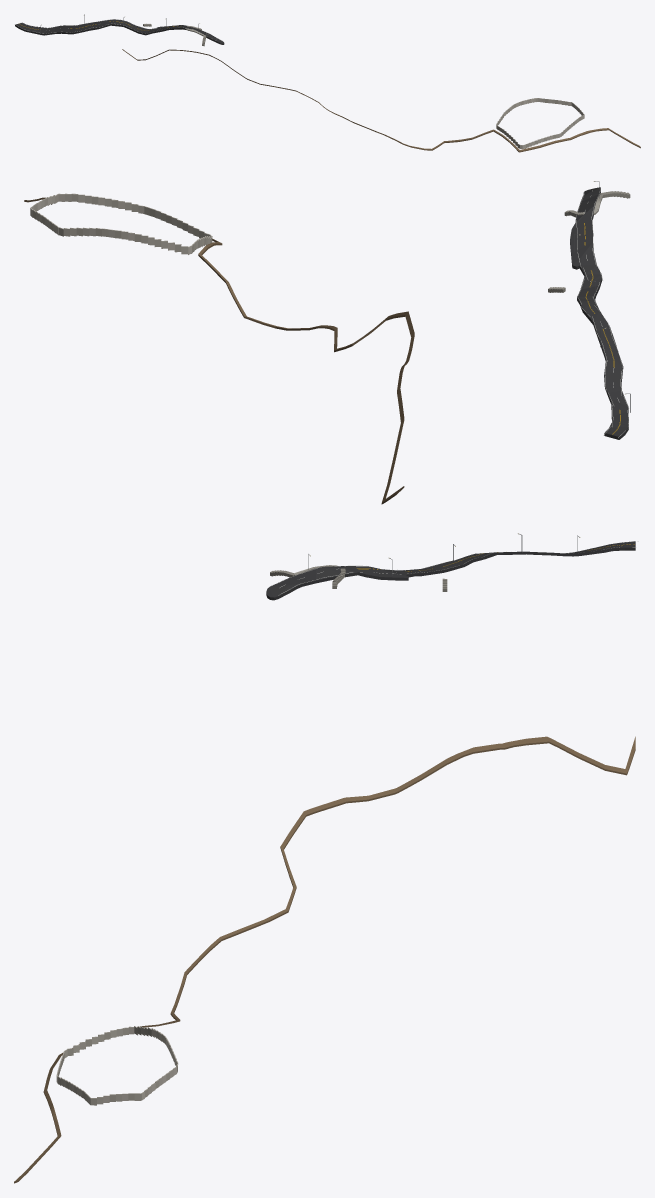
3 renders of one model, top to bottom at view 1: azimuth 30°, elevation 25°; view 2: azimuth 150°, elevation 25°; view 3: azimuth 270°, elevation 25°, orthographic. The views are drawn at different scales.
Bounding box in the file's own units: 382 × 124 × 239.
